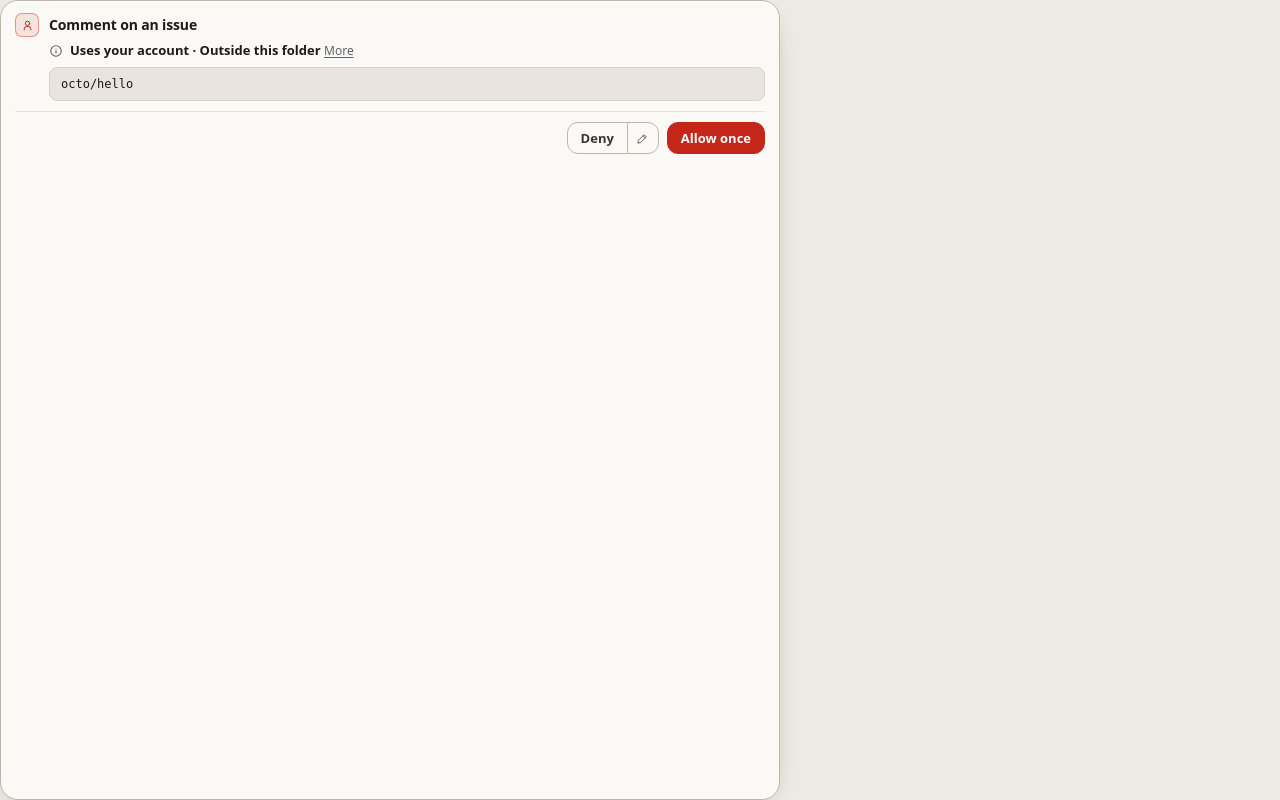
Test: the card that asks, for several reasons › labels every reason the policy combined, and explains each
Click the button "More". click: click(339, 51)
box: 324,42 -> 354,59
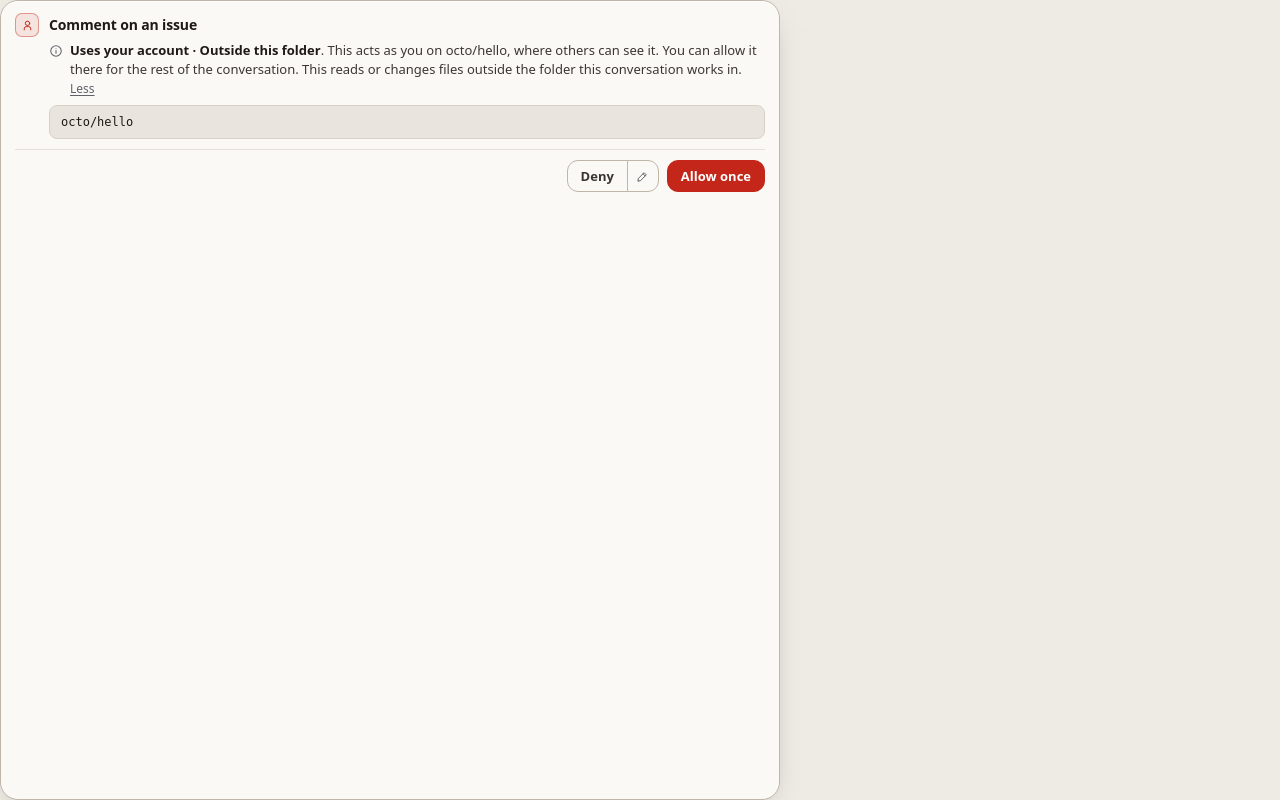
Check: the element named "Why you’re asked" shows "octo/hello", box 70,41 -> 757,78
Check: the element named "Why you’re asked" shows "outside the folder", box 70,41 -> 757,78
